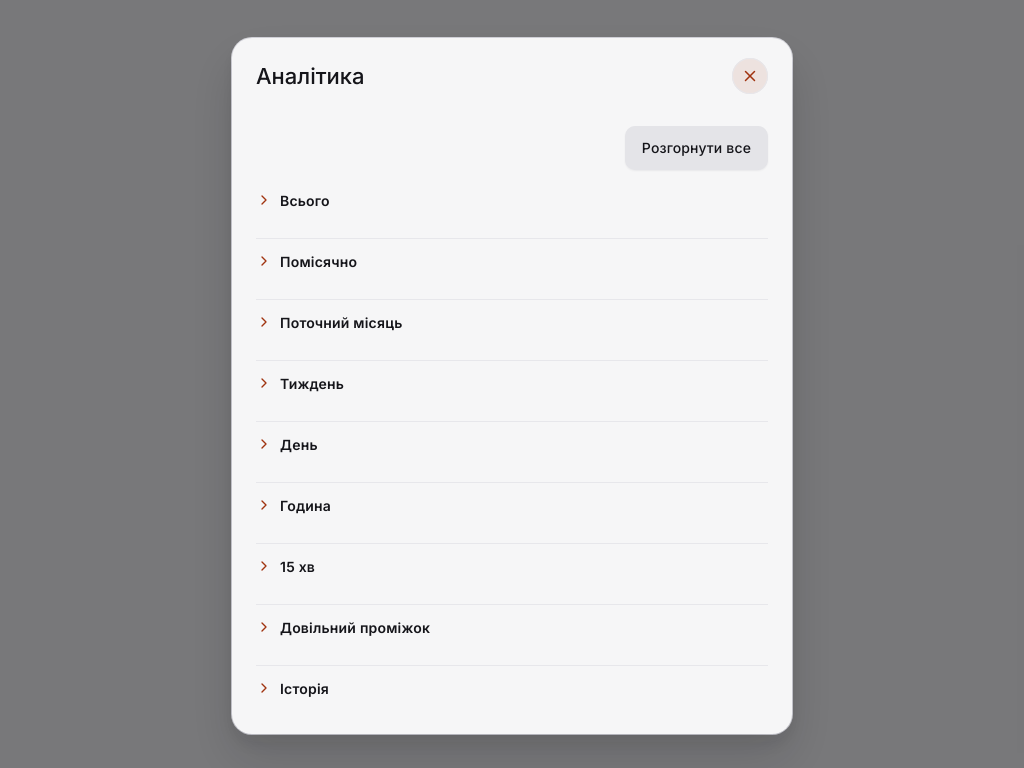
Test: акордеони періодів › «Помісячно» — 12 колонок року, порожні місяці — сірі крапки
Step 1. Click the button "Помісячно" → [319, 261], box [256,239,768,283]
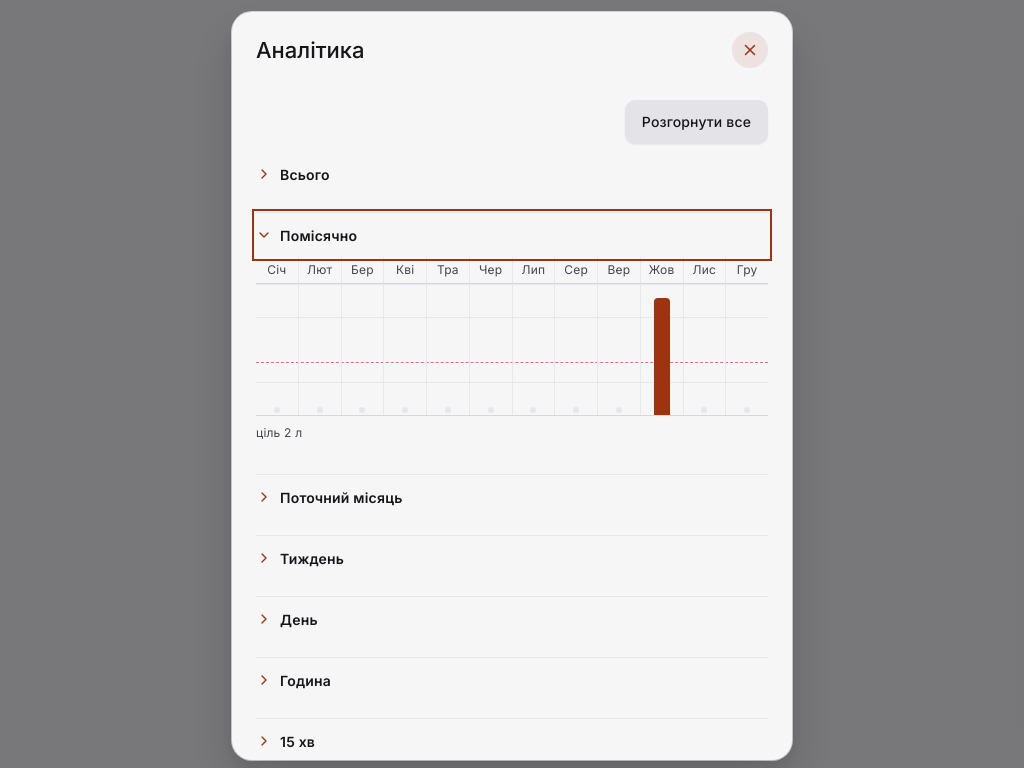
Check: the number of elements with class "wb-tp-slot" is 12
Check: the number of elements with class "wb-tp-void" is 11
